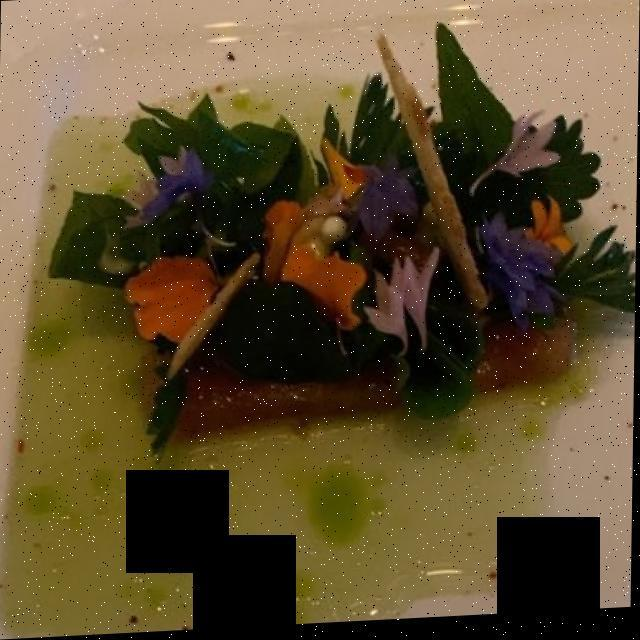carrot: (129, 145, 372, 332)
coriander: (316, 79, 632, 313)
tuna: (152, 317, 587, 453)
